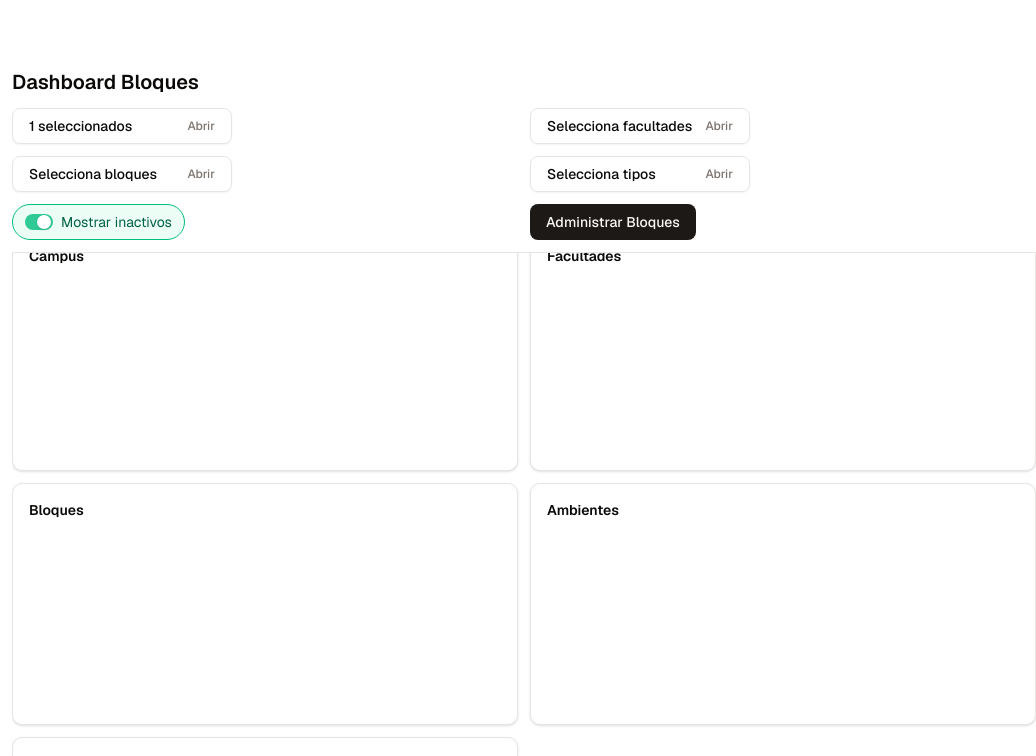
Test case: Dashboard Bloques - vista global › filtra facultades por campus seleccionado en el filtro de campus
This screenshot has width=1036, height=756.
Click the button "Selecciona facultades Abrir" at coordinates (640, 126), box [530,108,750,144]
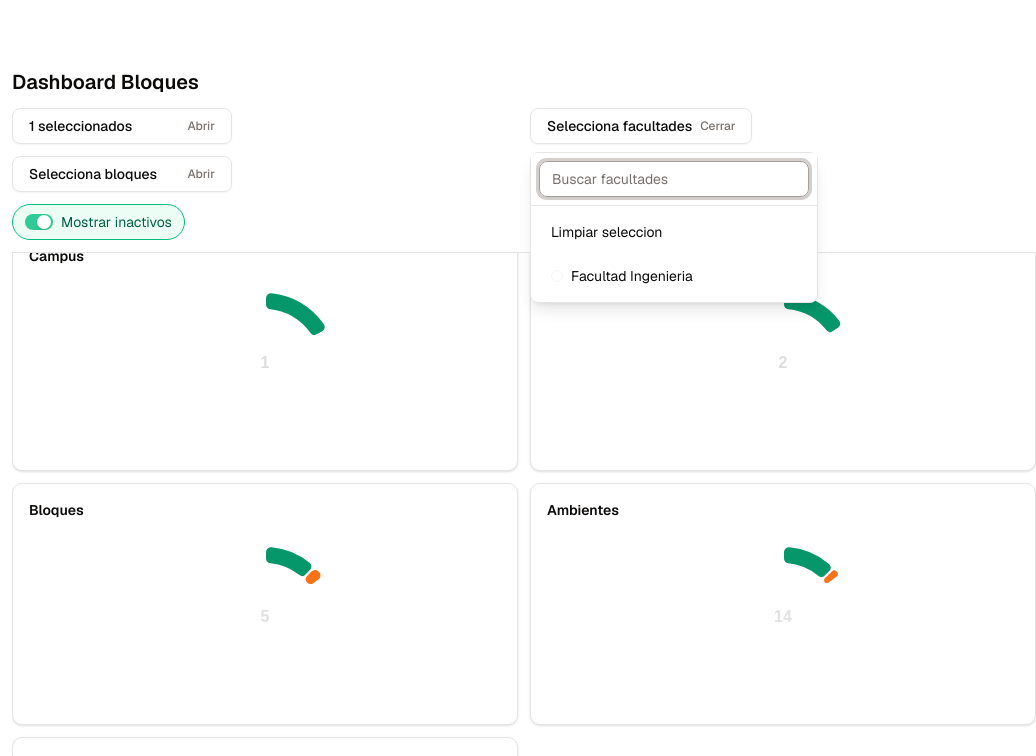
Expected: the option "Facultad Ingenieria" is shown, [539,258,809,294]
